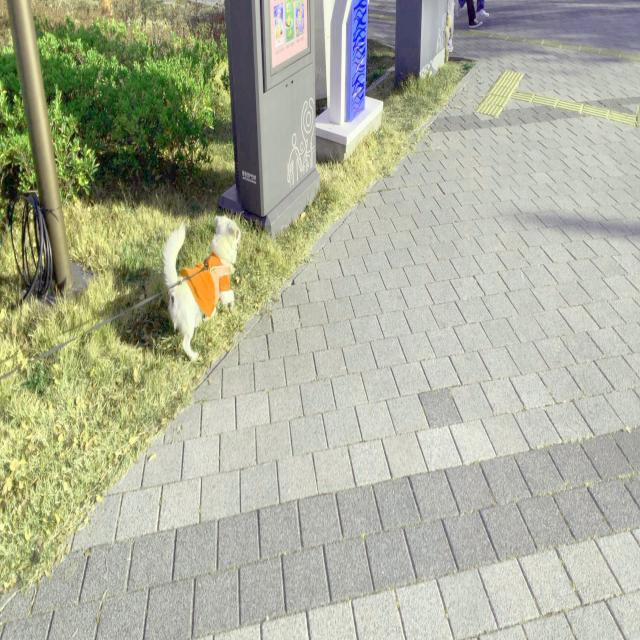Dog: (161, 210, 243, 365)
